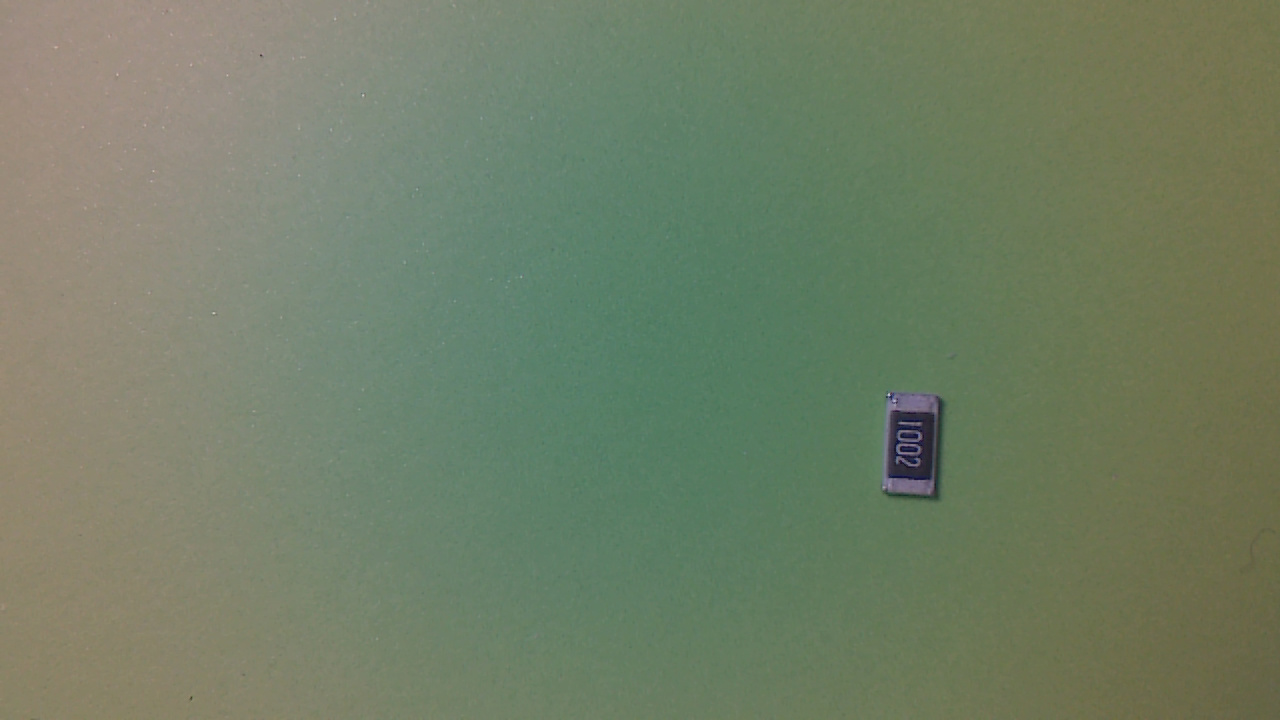Resistor: (881, 395, 952, 508)
